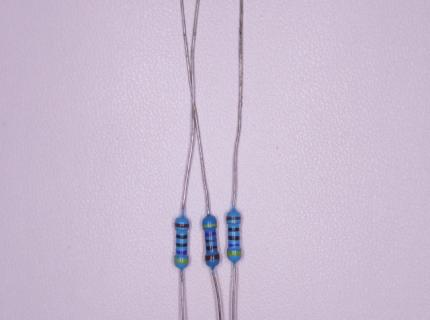Black band: (206, 245, 217, 251), (228, 236, 240, 241), (228, 227, 240, 232), (205, 239, 217, 244), (176, 234, 187, 239), (176, 243, 187, 248)
Brown band: (205, 254, 220, 261), (175, 223, 189, 229), (226, 216, 241, 221)
Violet band: (205, 231, 216, 237), (176, 251, 187, 256), (228, 243, 239, 247)
Yellow band: (174, 258, 189, 264), (226, 263, 241, 268), (202, 223, 217, 228)
